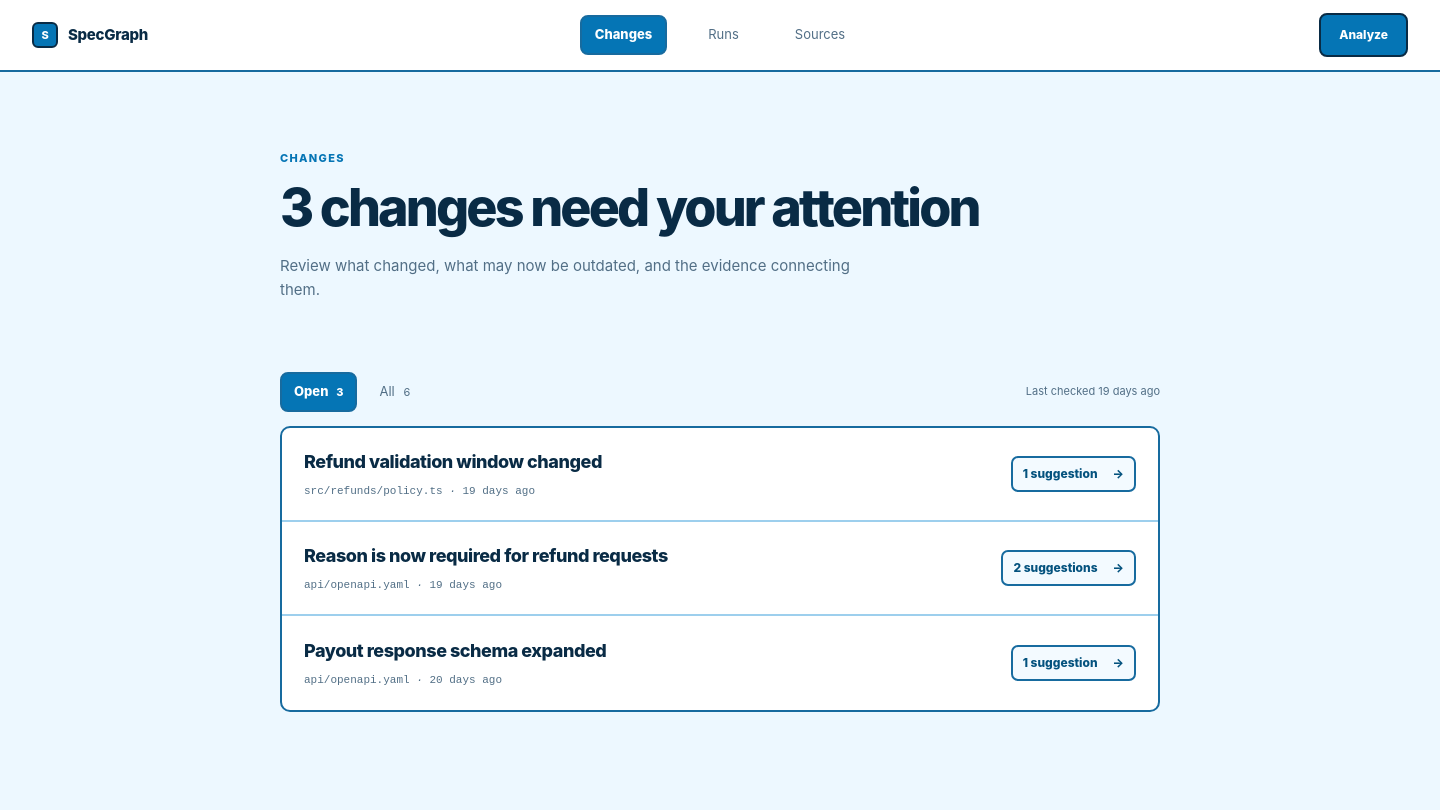
Scenario: SpecGraphApp › confirms before removing a connected repository
This screenshot has width=1440, height=810.
Click the button "Sources" at point(820, 35), box left=780, top=15, right=860, bottom=55
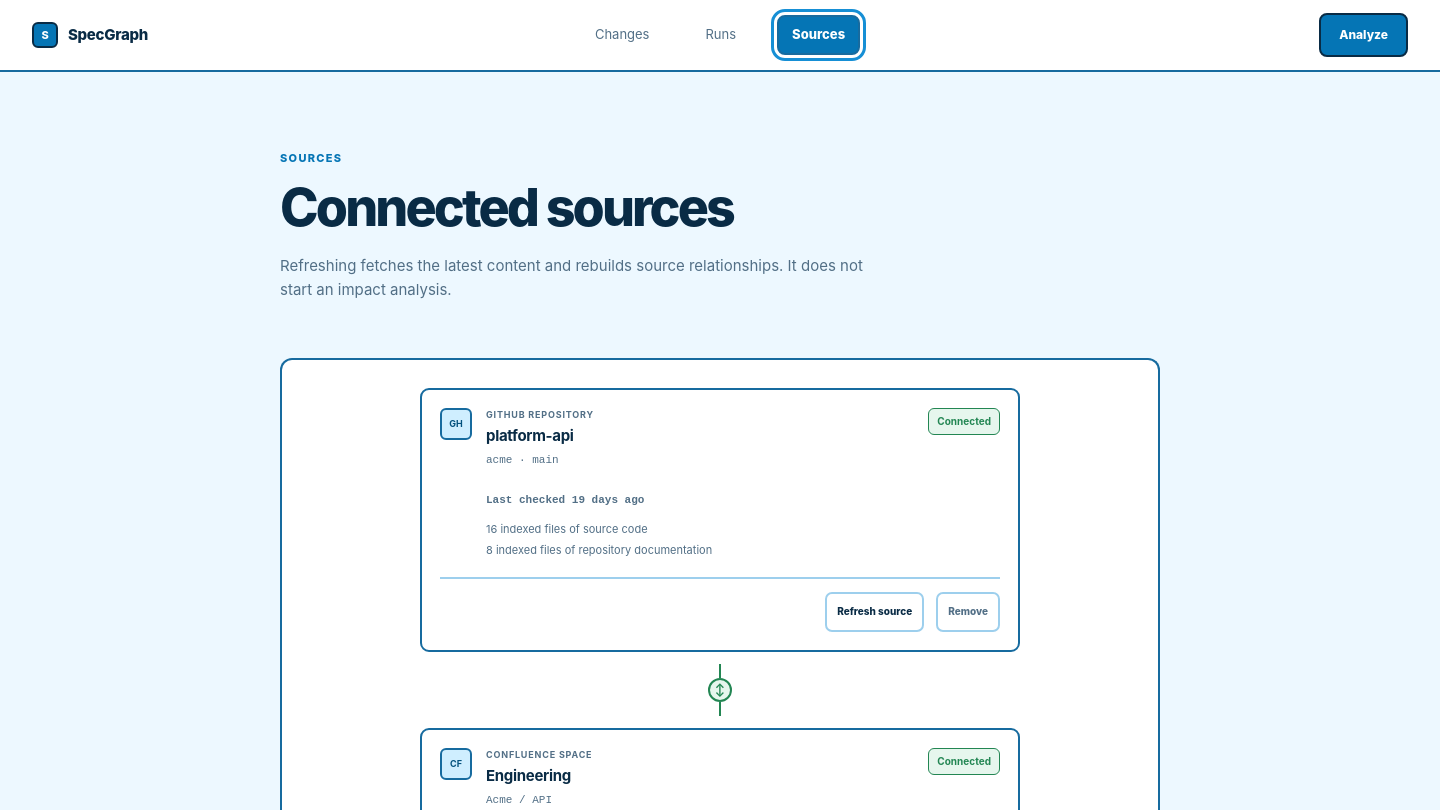
Click the button with aria-label "Remove platform-api" at point(968, 612), box left=936, top=592, right=1000, bottom=632
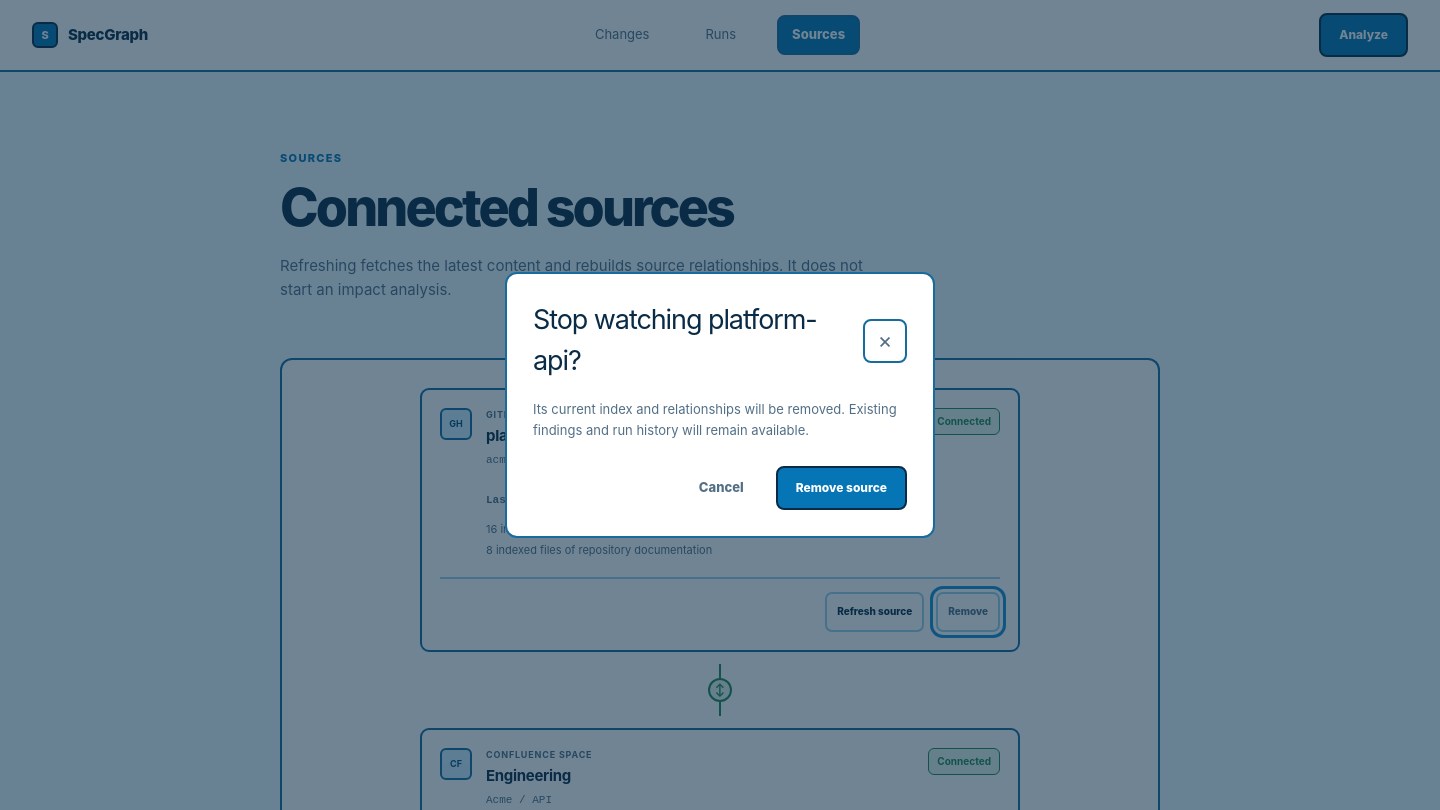
Now the dialog "Stop watching platform-api?" is shown, box left=505, top=272, right=935, bottom=538
Now the text "Existing findings and run history will remain available" is shown, box left=533, top=401, right=897, bottom=438
Click the button "Remove source" at point(841, 488), box left=776, top=466, right=907, bottom=510
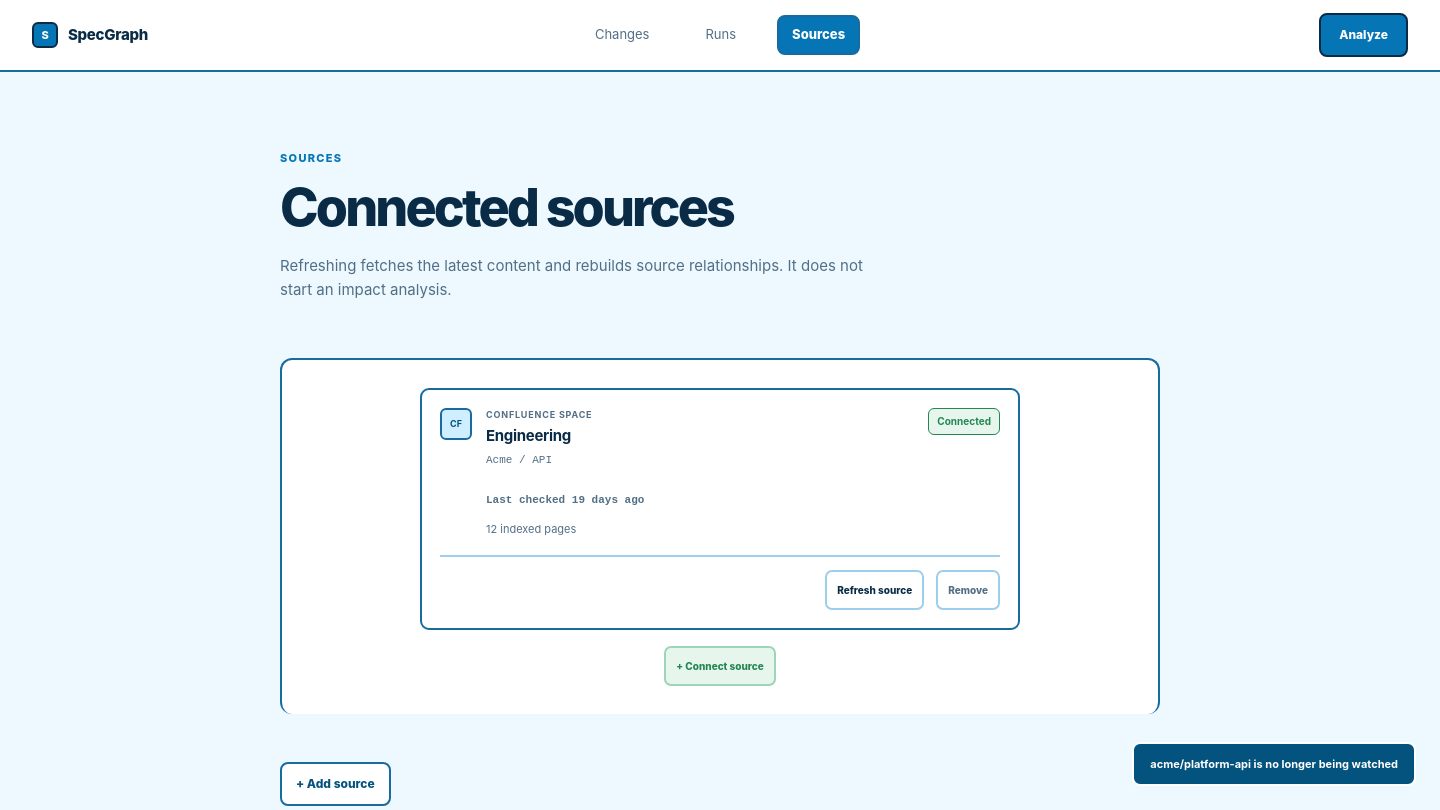
Now the message reads "acme/platform-api is no longer being watched", box left=1150, top=756, right=1398, bottom=770
